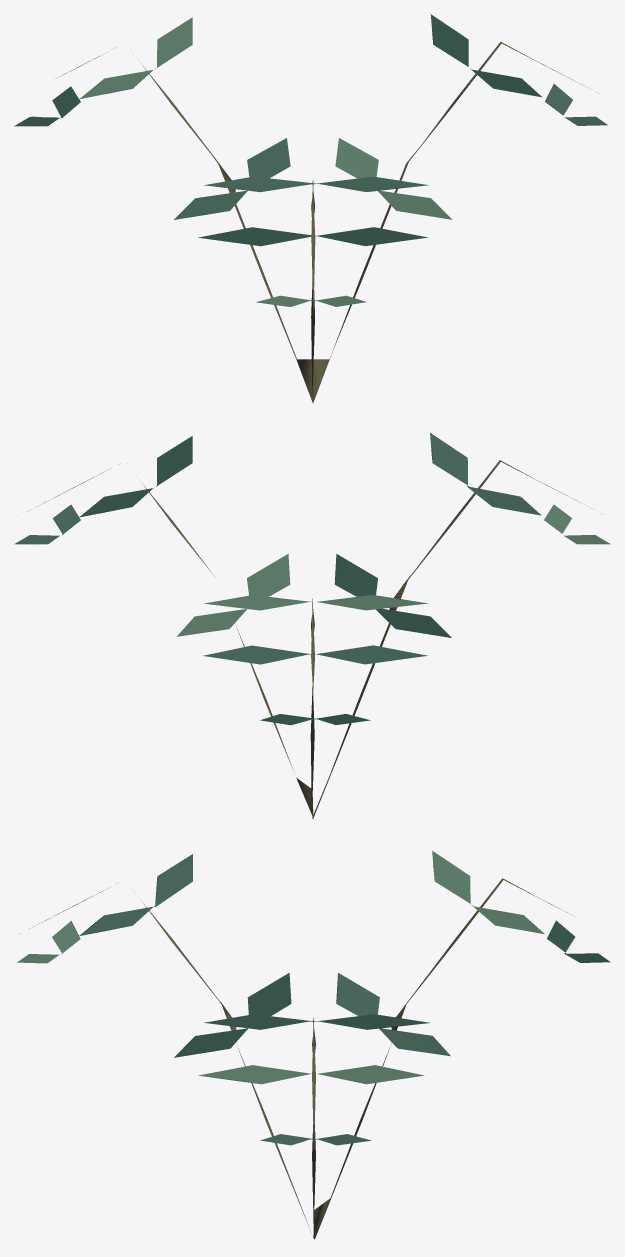
File: low.fern.a_low.glb
3 views of the same model, one above another, from view 1: azimuth 30°, elevation 25°; view 2: azimuth 150°, elevation 25°; view 3: azimuth 270°, elevation 25° (orthographic).
Size of the model in its own units: 0.5421 by 0.3436 by 0.5841.
